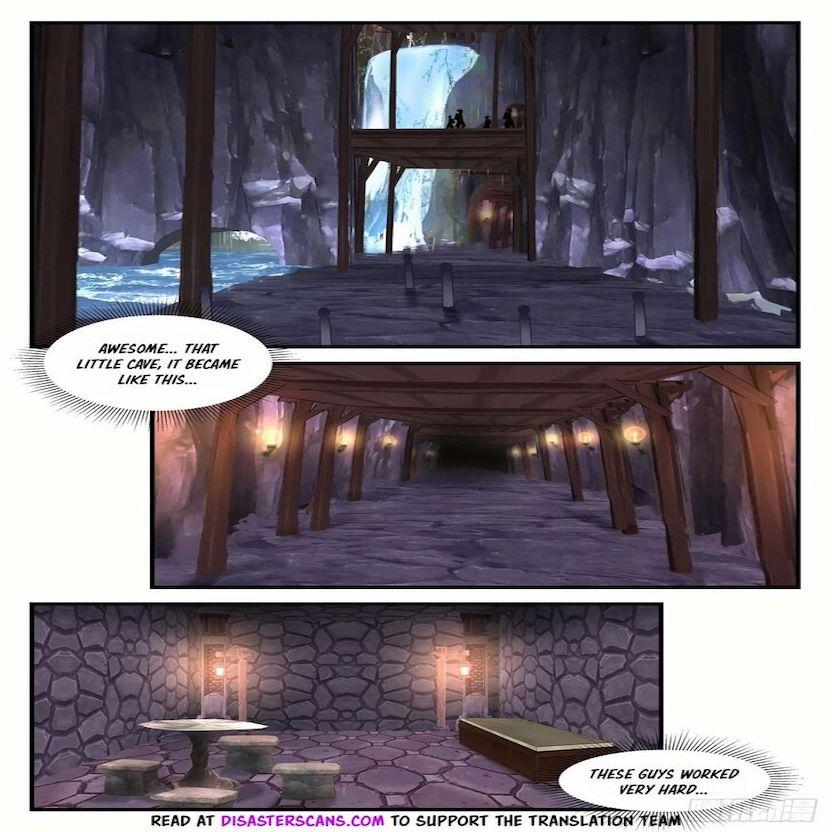Bubble: (42, 311, 276, 413), (556, 747, 774, 814)
